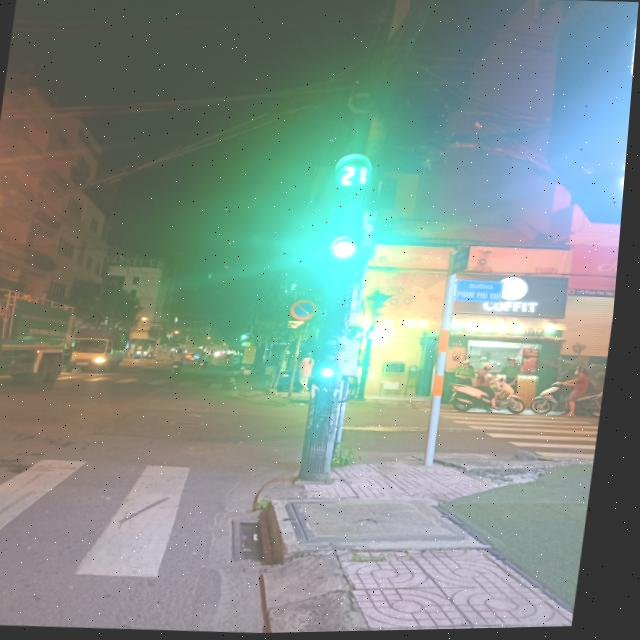Green: (326, 195, 374, 273), (317, 335, 356, 395)
